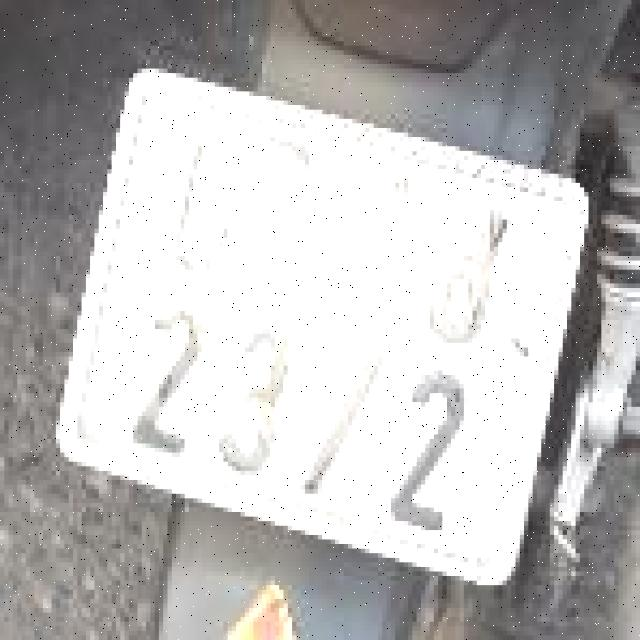2: (375, 353, 497, 552), (124, 280, 231, 464)
3: (207, 302, 311, 488)
6: (163, 123, 245, 274)
7: (299, 320, 380, 503), (427, 185, 509, 350), (242, 128, 316, 293)
N: (352, 155, 438, 334)
